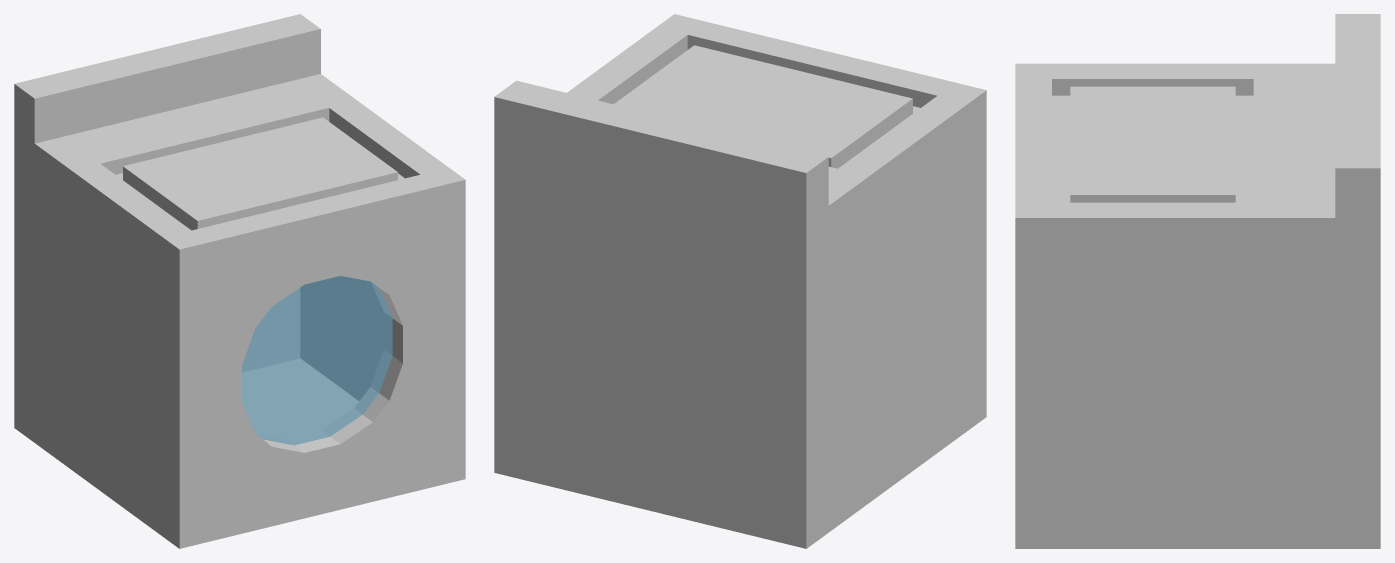
Rendered from washing_machine.glb.
The picture shows the model from 3 angles, left to right: view 1: azimuth 30°, elevation 25°; view 2: azimuth 150°, elevation 25°; view 3: azimuth 270°, elevation 25°; orthographic projection. The views are drawn at different scales.
Visible parts, largest first — view 1: laundry_machine; view 2: laundry_machine; view 3: laundry_machine.
Part boxes in pixels (box(x1,y1,x2,y2)): laundry_machine: box(14, 14, 465, 548); laundry_machine: box(494, 14, 986, 548); laundry_machine: box(1015, 14, 1380, 548).
Bounding box in the file's own units: 2 × 2.3 × 2.
